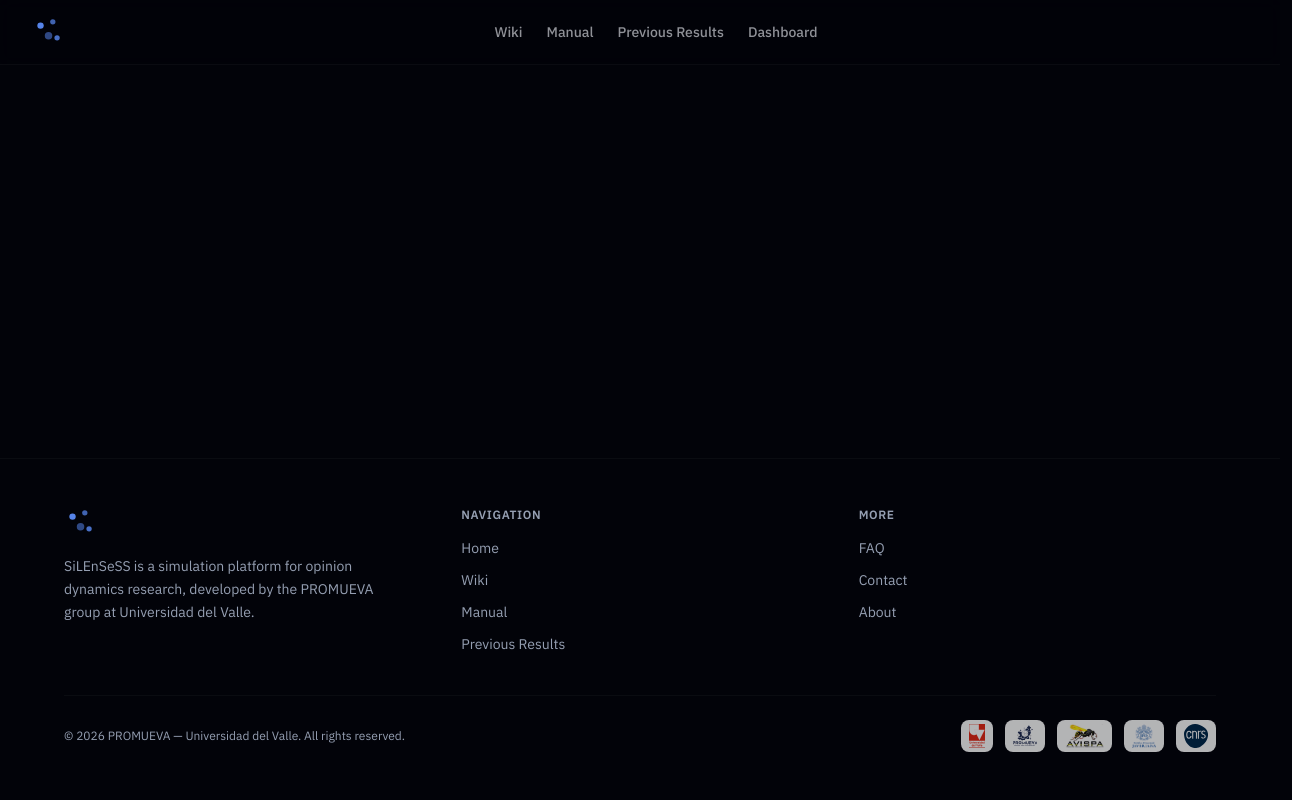
Scenario: AppRoutes — route-level code splitting (#130) › does not import the protected pages while rendering the public routes
Click the link "FAQ". click: [872, 548]
box: [859,539,885,557]
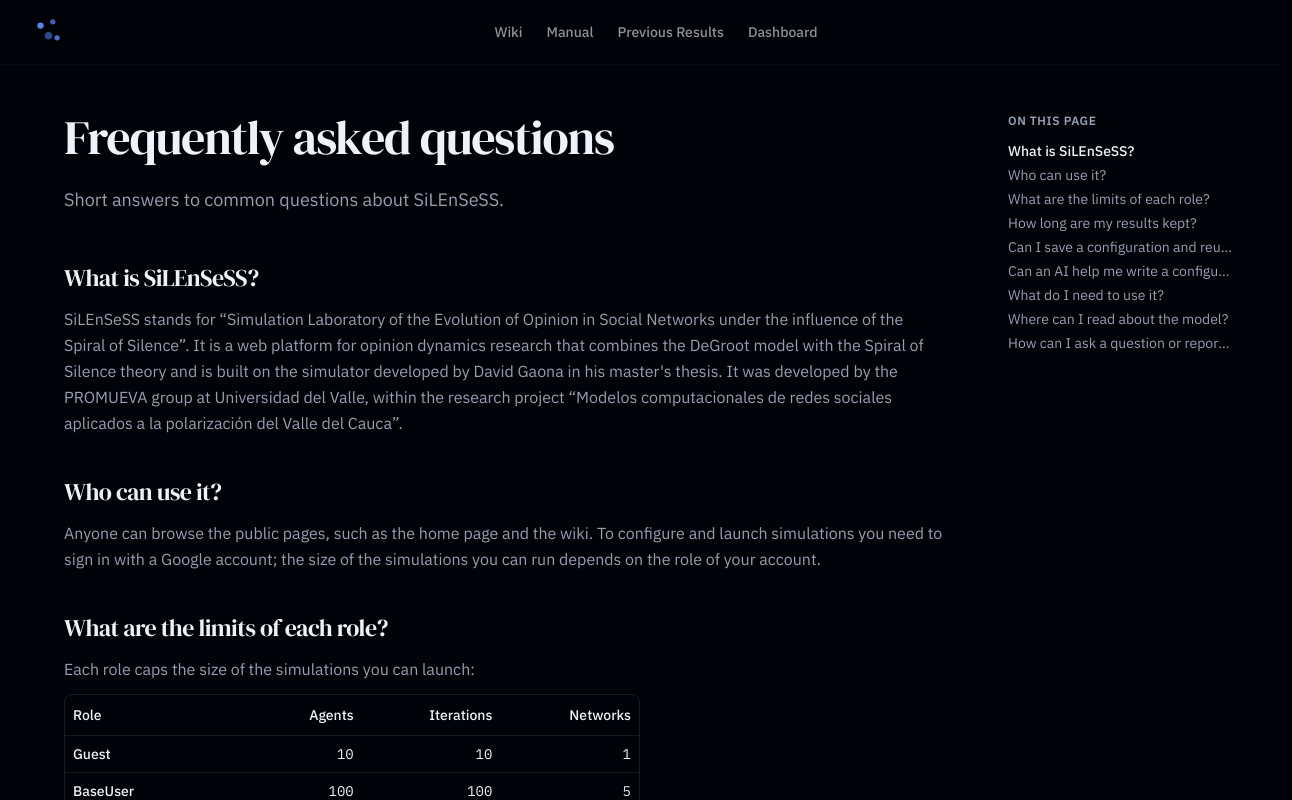
Now the heading "Frequently asked questions" is shown, box [64,104,614,170]
